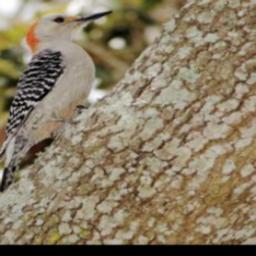Woodpecker: (0, 1, 118, 204)
